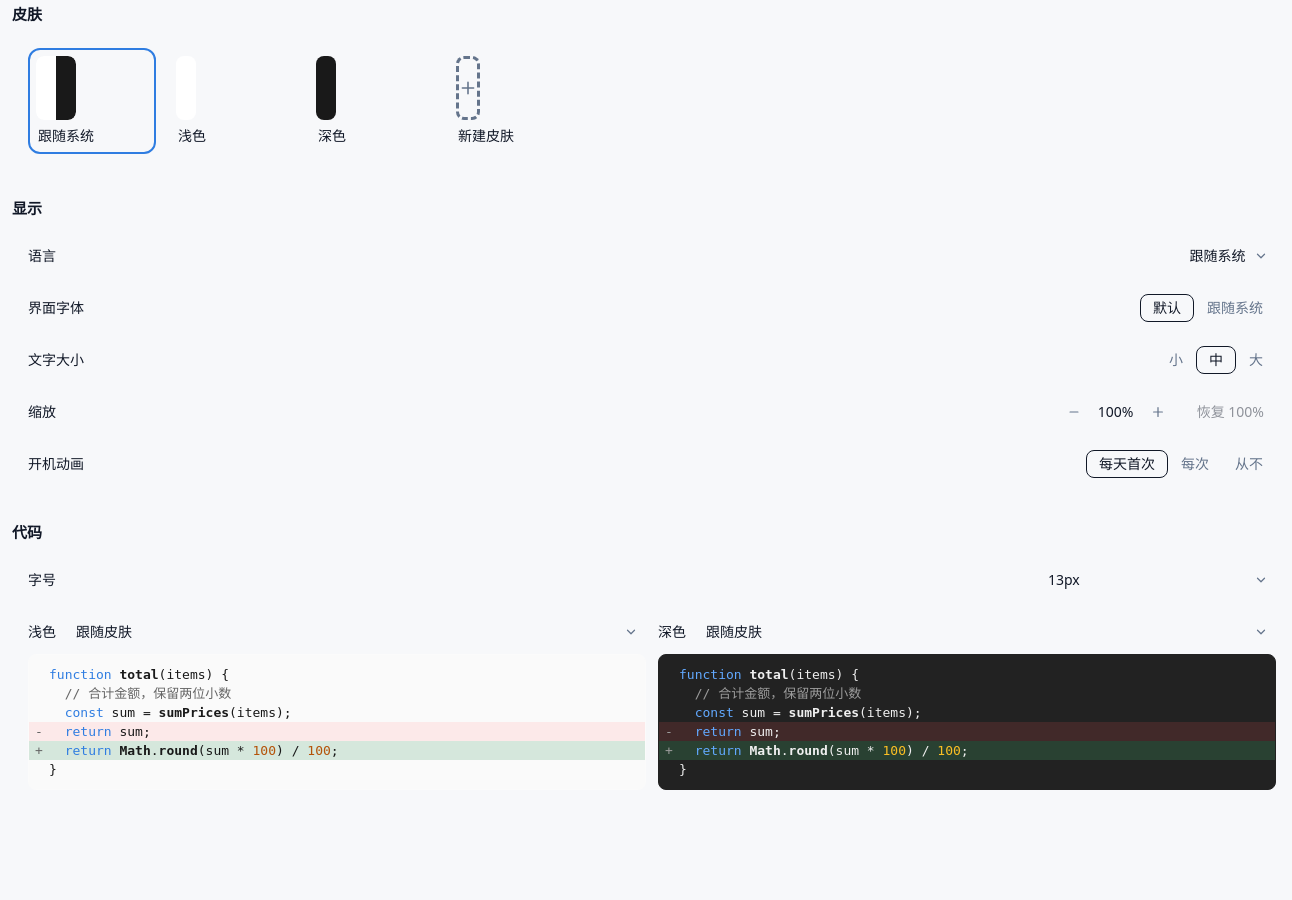
Test: Appearance › 语言 switches the page at once, each language named in itself; 跟随系统 goes back to Windows’ language
Click the dropdown named "语言": (1227, 256) left=1178, top=242, right=1276, bottom=270
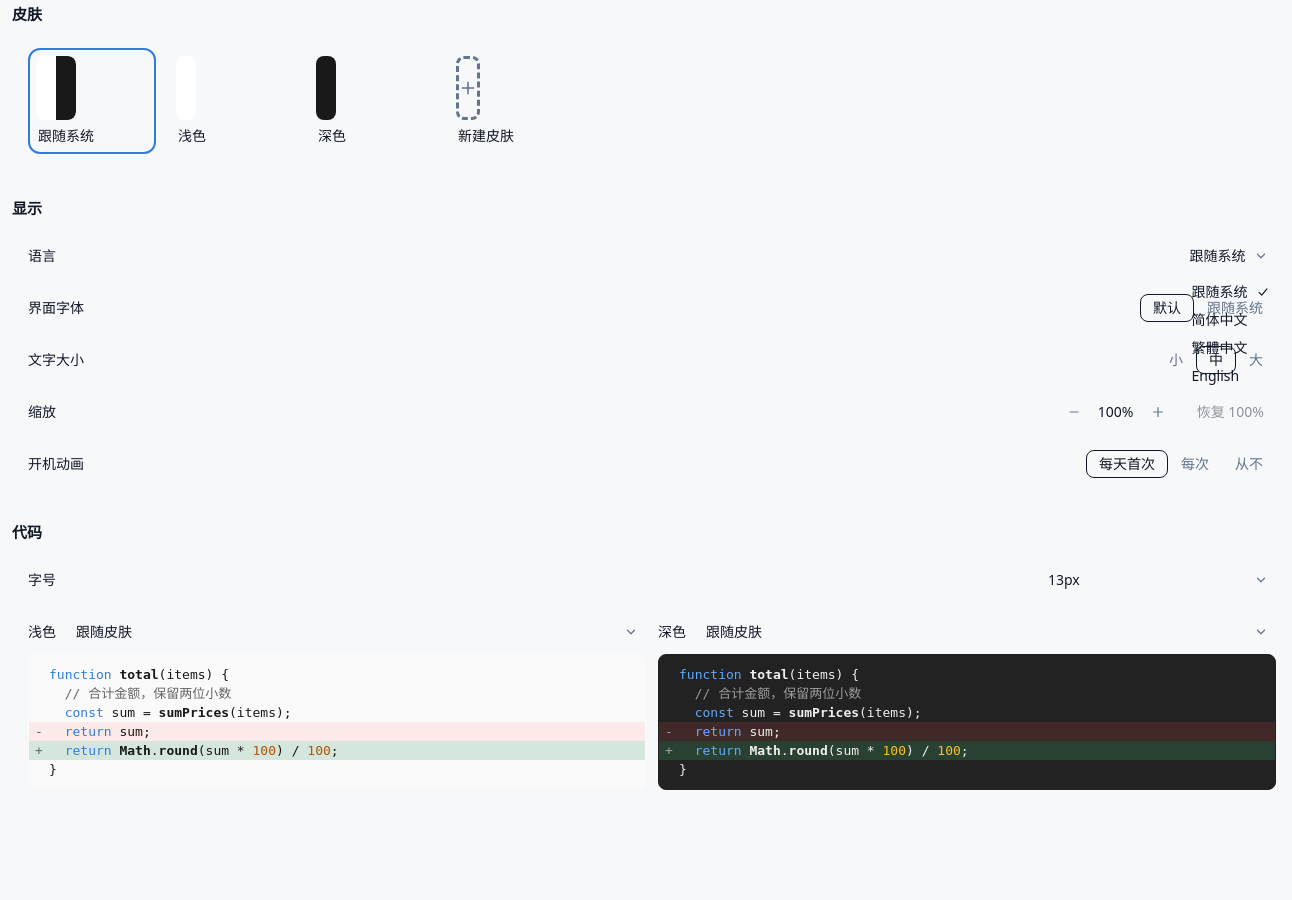
Click the menu item "English": (1230, 376) left=1182, top=362, right=1280, bottom=390
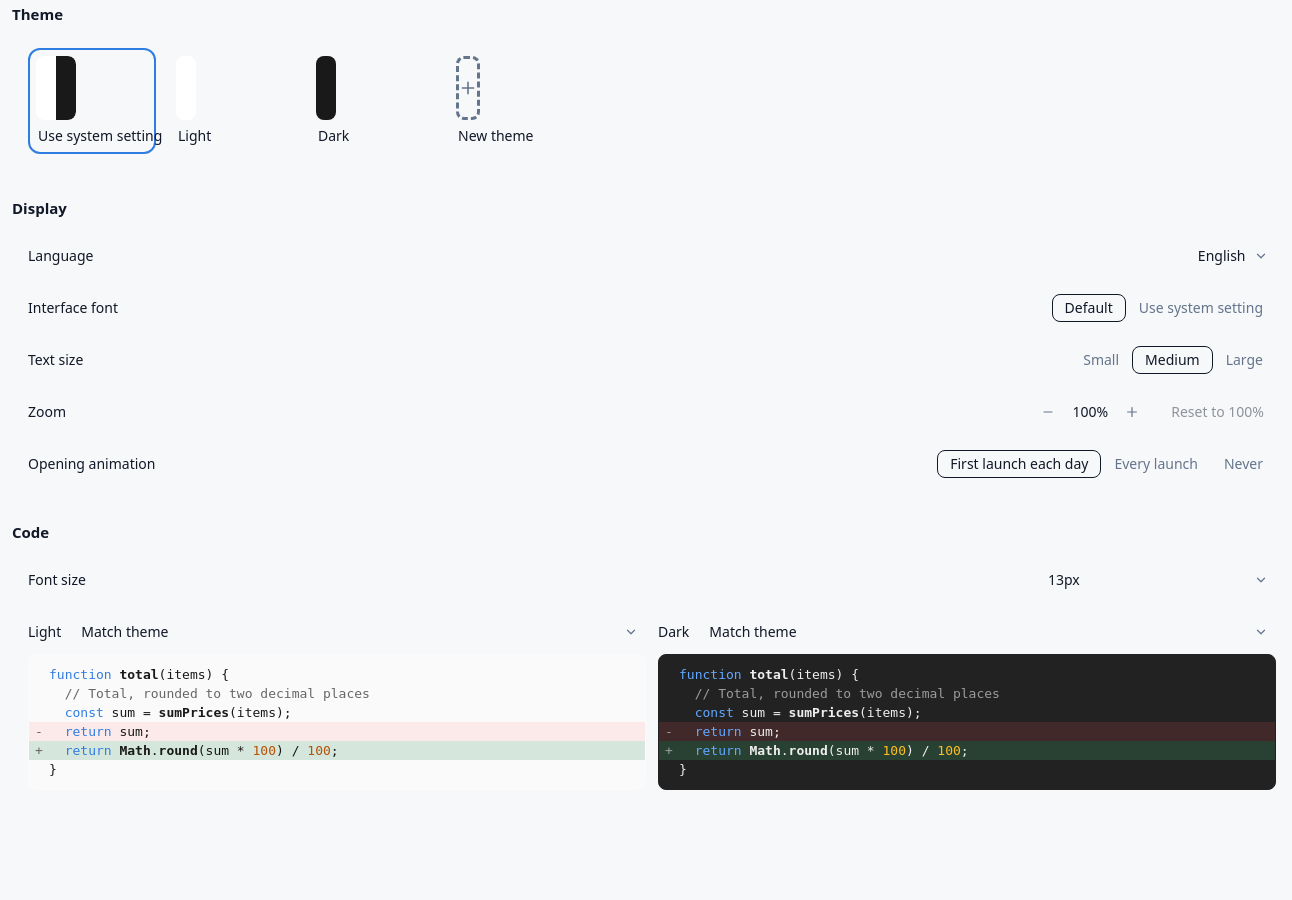
Expected: the dropdown named "Language" reads "English"
Expected: the radio button labelled "Dark" is shown, left=308, top=48, right=436, bottom=154
Click the dropdown named "Language": (1231, 256) left=1186, top=242, right=1276, bottom=270
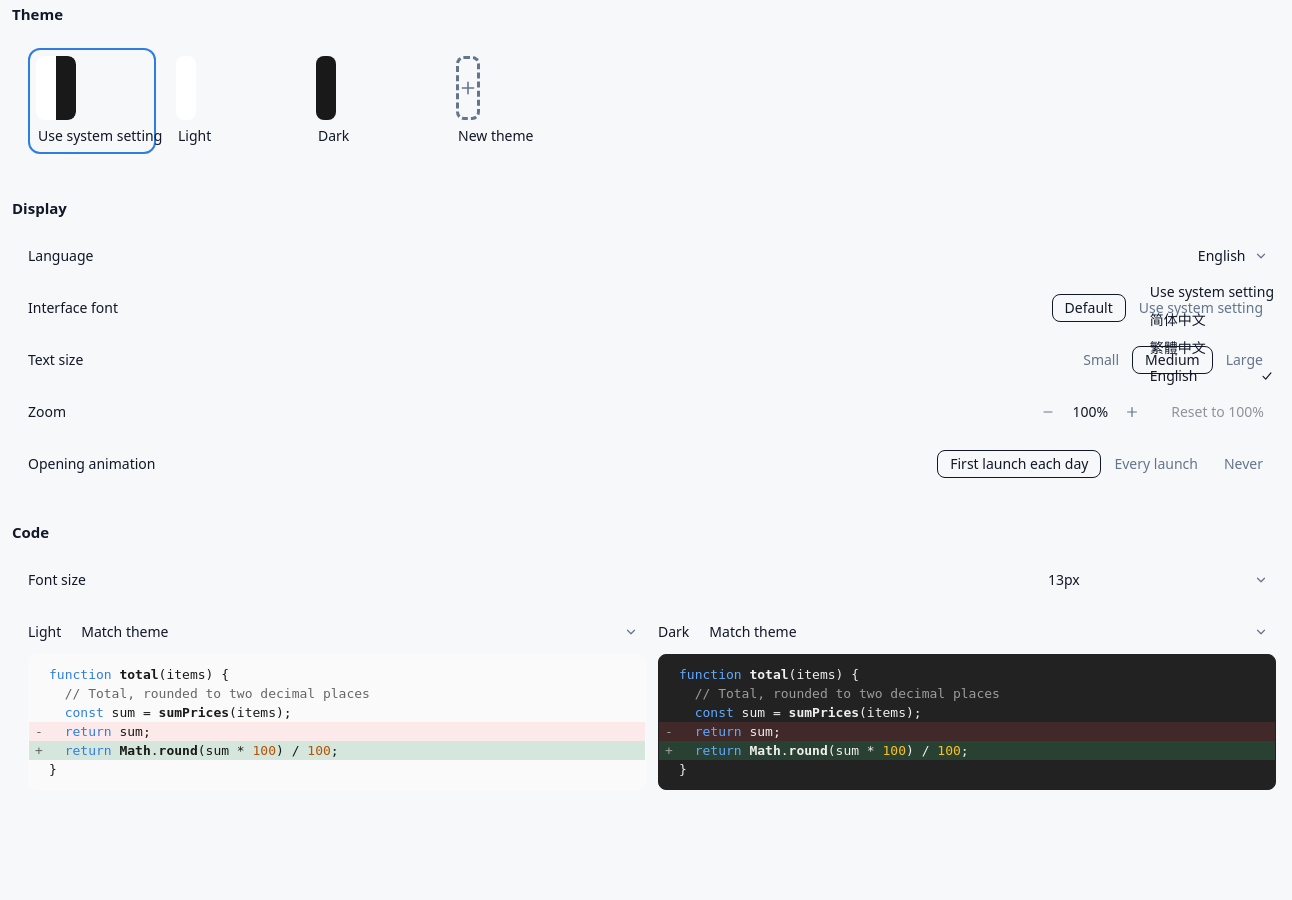
Click the menu item "繁體中文": (1212, 348) left=1140, top=334, right=1284, bottom=362
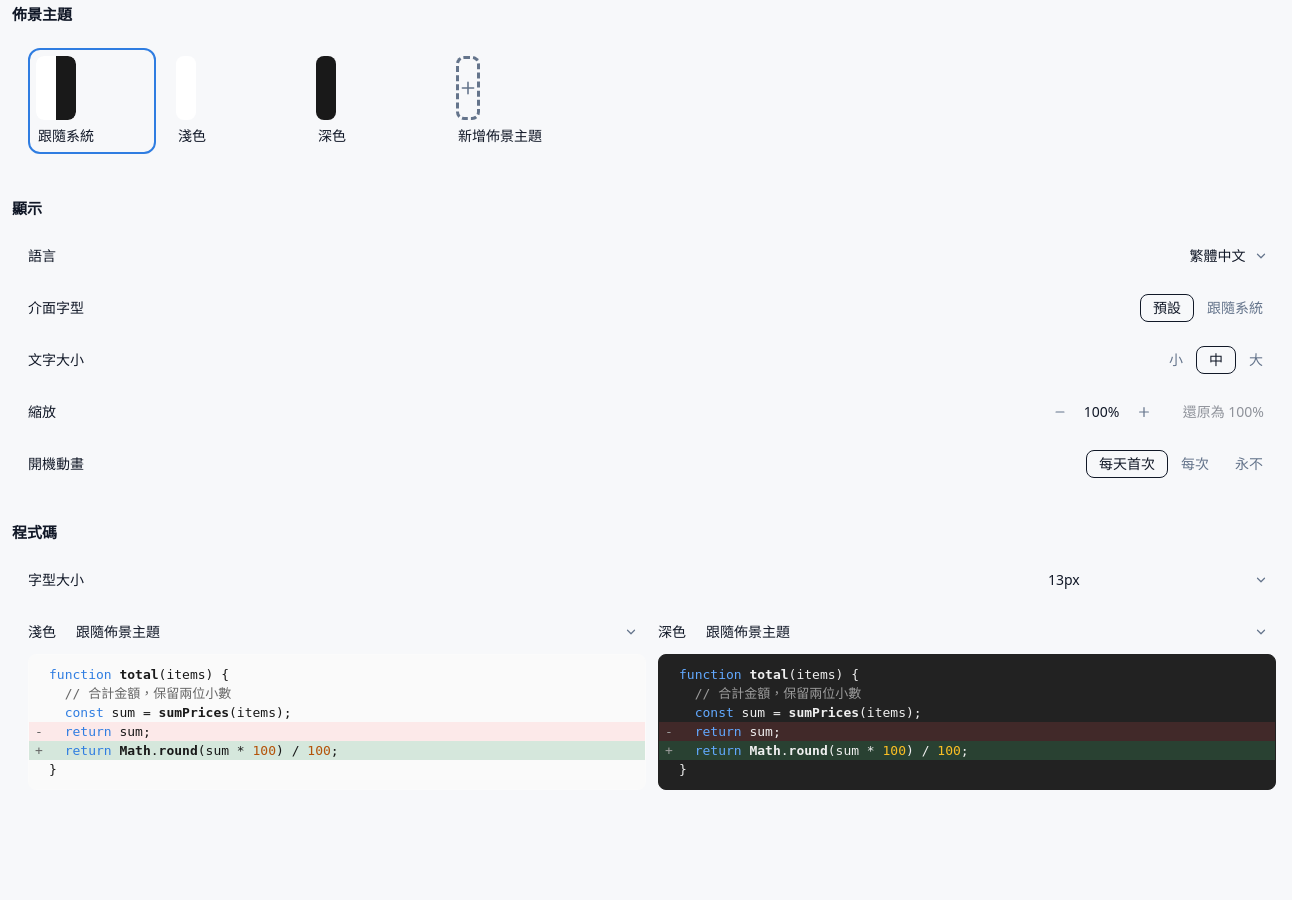
Expected: the radio button labelled "深色" is shown, left=308, top=48, right=436, bottom=154
Expected: the text "介面字型" is shown, left=28, top=298, right=84, bottom=317
Click the dropdown named "語言": (1227, 256) left=1178, top=242, right=1276, bottom=270
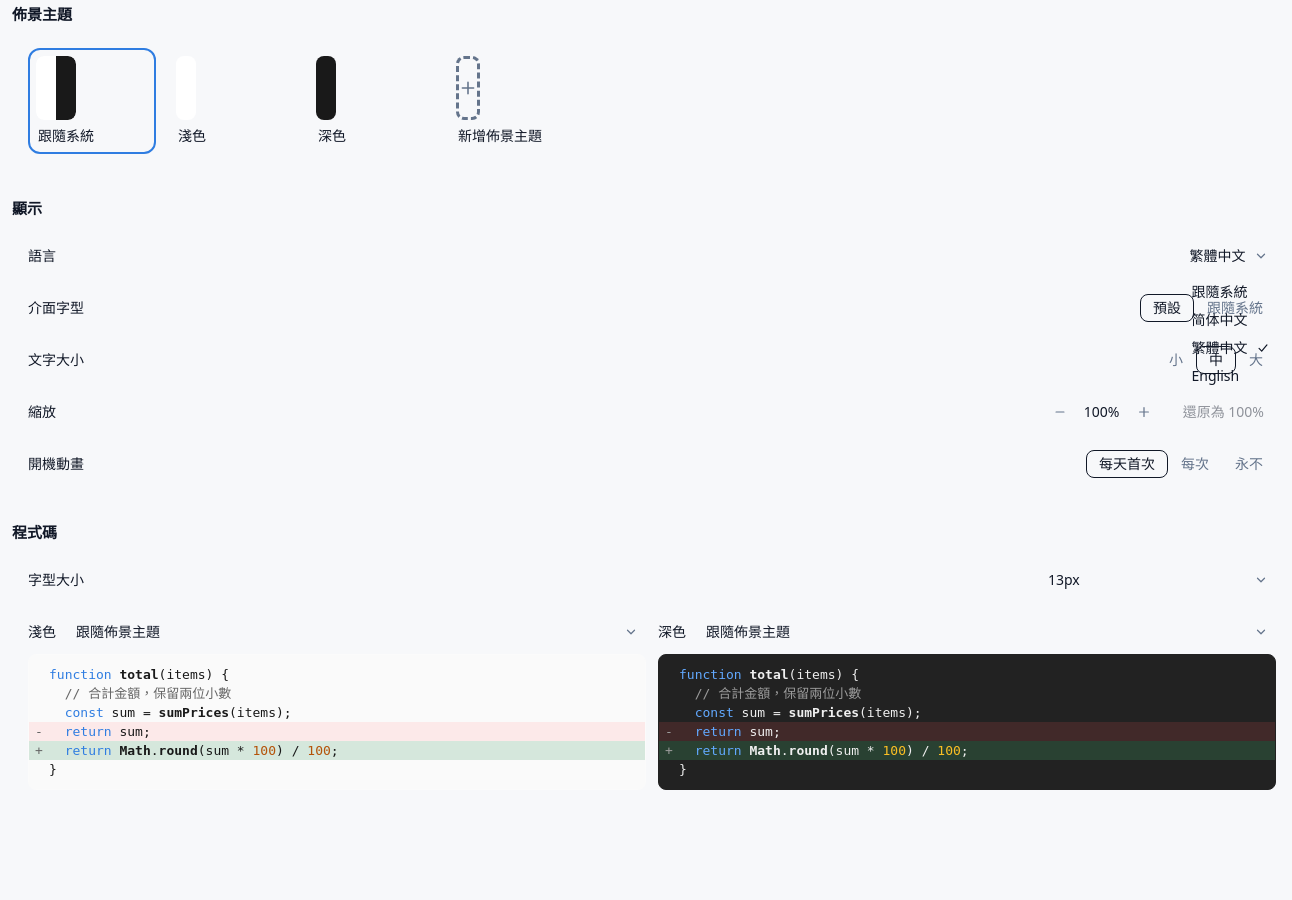
Click the menu item "跟隨系統": (1230, 292) left=1182, top=278, right=1280, bottom=306
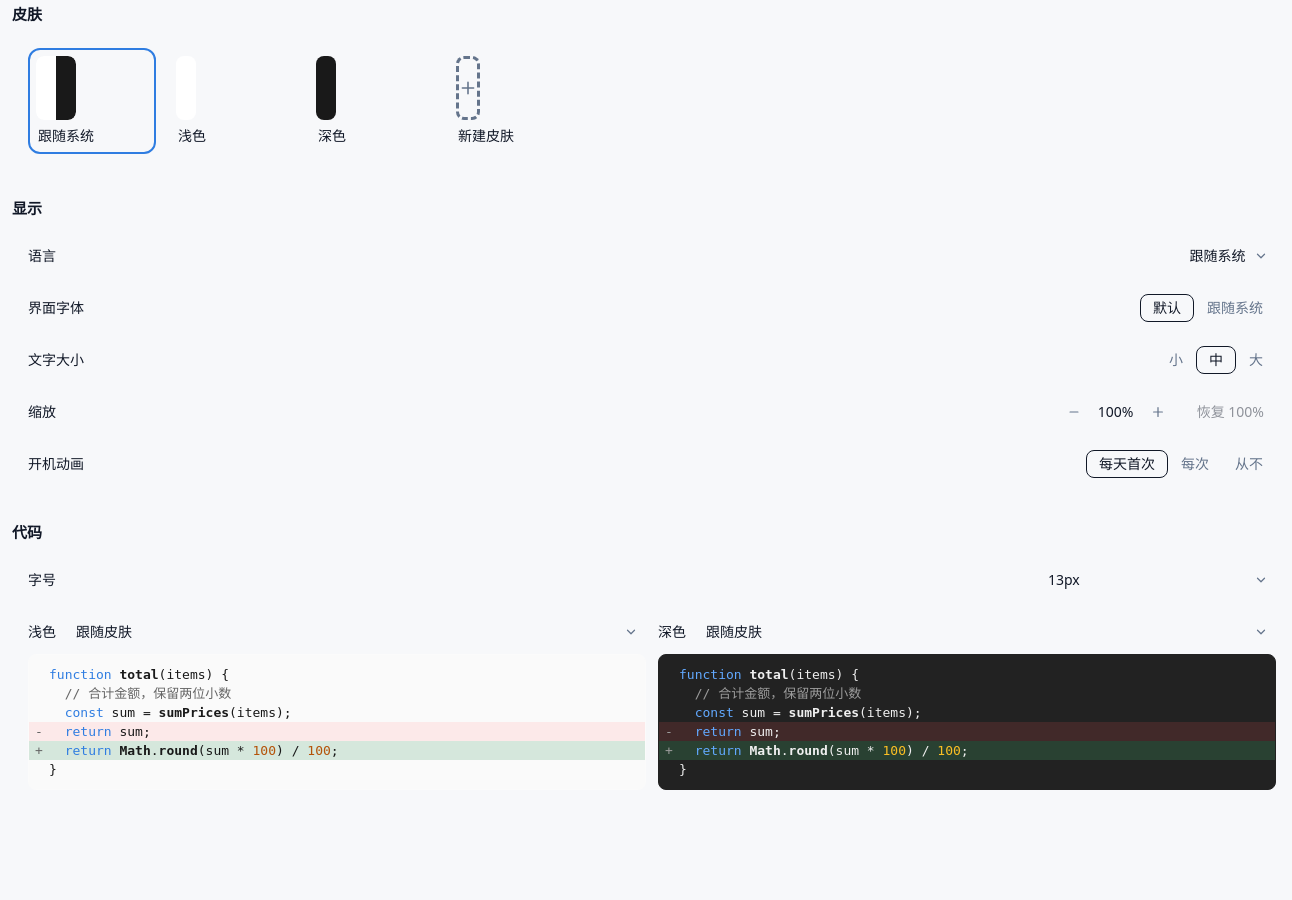
Expected: the text "界面字体" is shown, left=28, top=298, right=84, bottom=317
